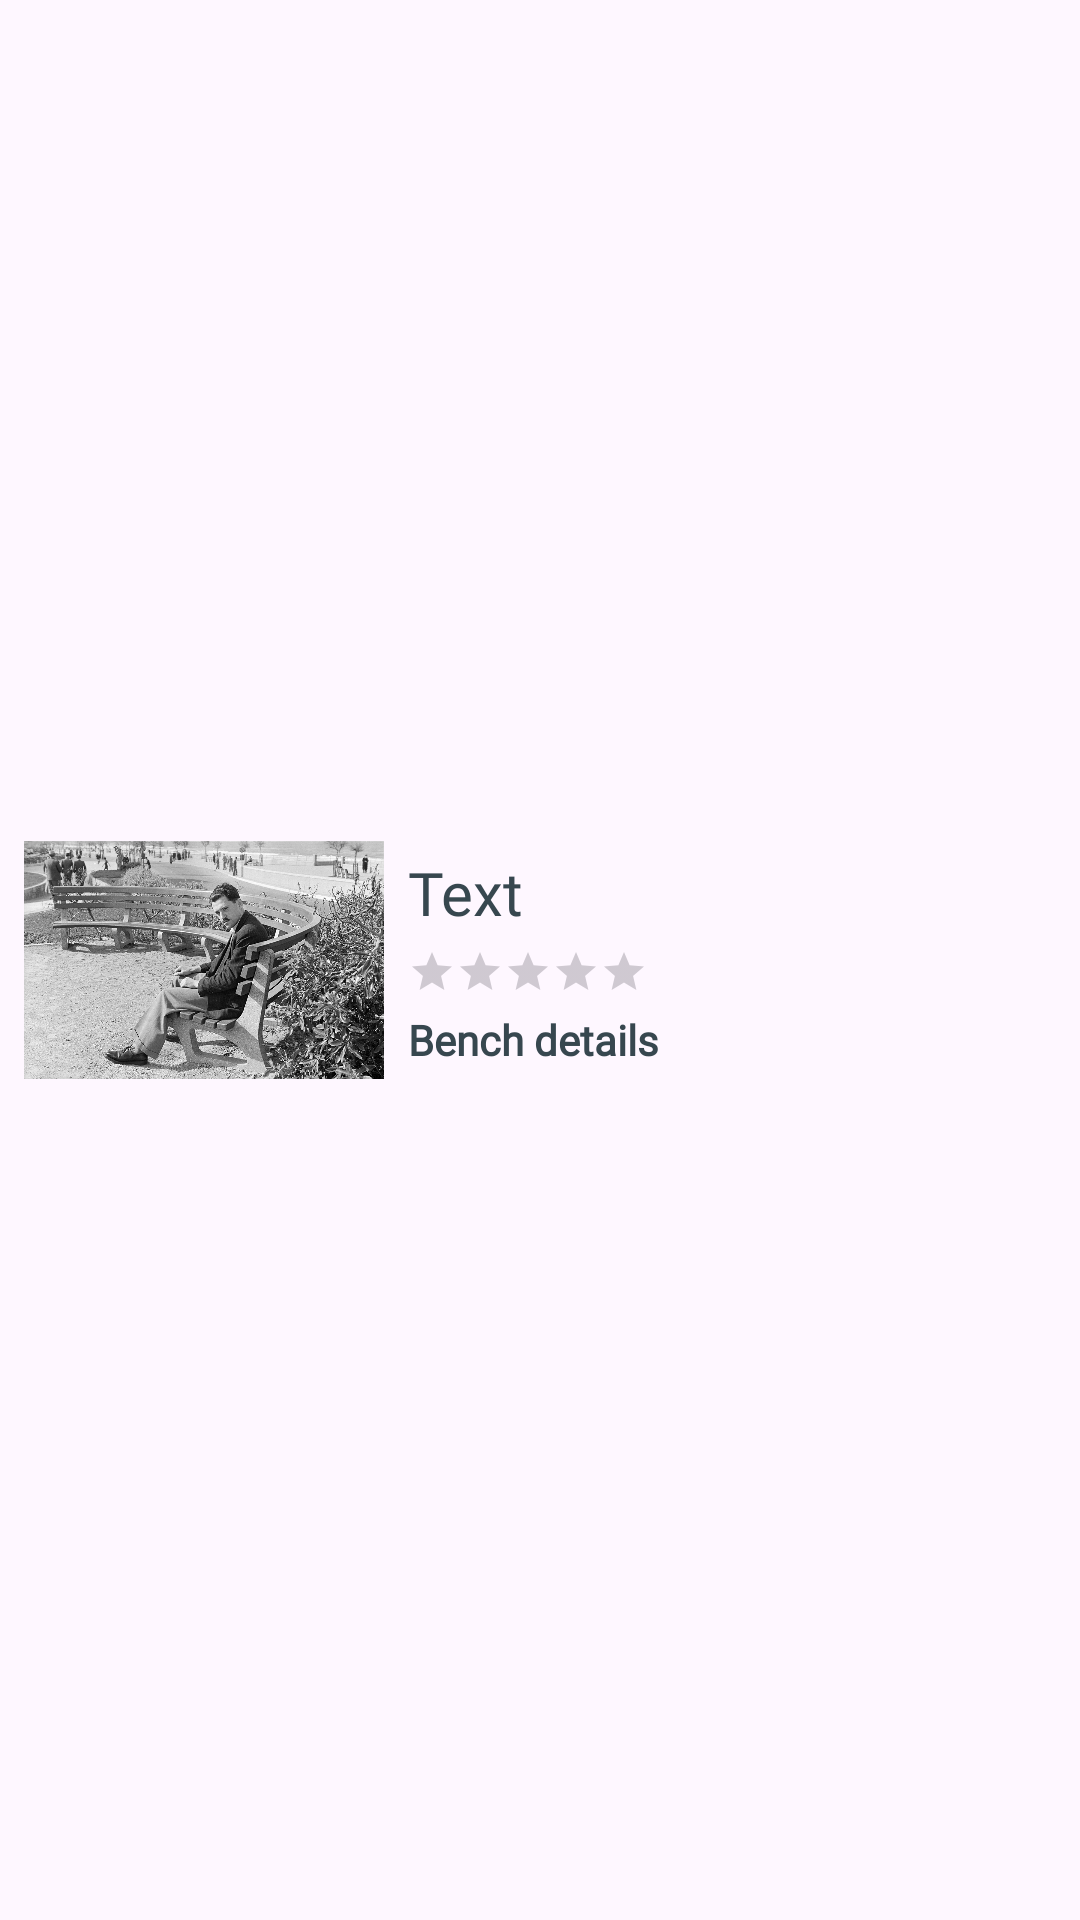

Where to tap for icons on this 1080w x 1920h app screen, as (x,y):
vintage bench tayelet omg: (204,960)
